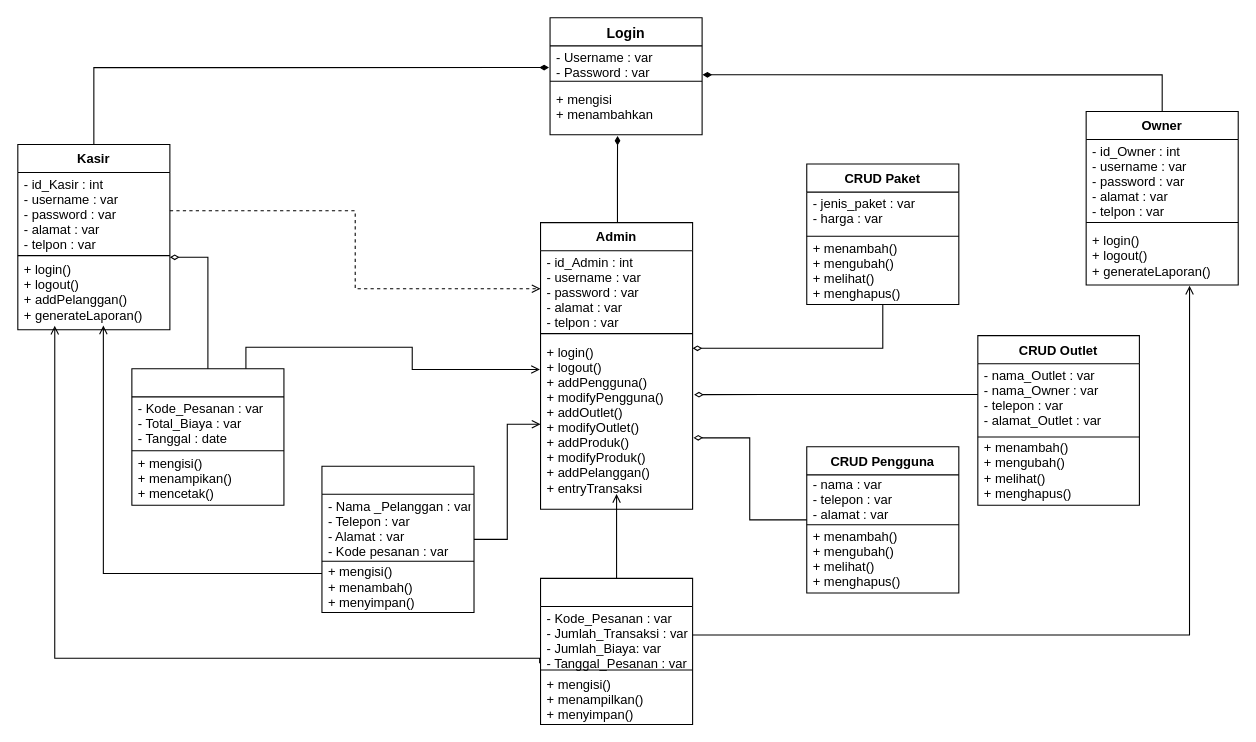
This 1256x742 diagram has some shape labels left out. The box of each missing label's shape, as (x1, y1, x2, y2) in pixels:
Entri Transaksi: (131, 368, 284, 505)
Generate Laporan: (539, 577, 693, 725)
Registrasi Pelanggan: (321, 465, 474, 612)
